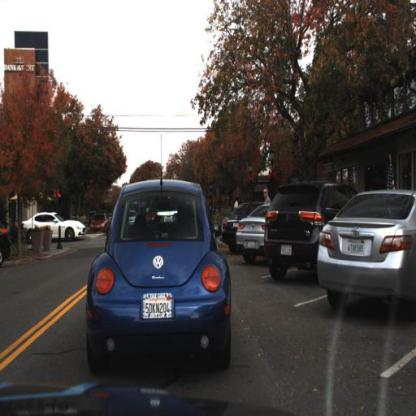car: (88, 177, 232, 373), (315, 191, 416, 316), (263, 183, 353, 281), (22, 209, 88, 246), (221, 199, 264, 251), (235, 206, 269, 265), (1, 217, 13, 265), (91, 211, 109, 235)
pedestrian: (261, 187, 274, 246)
